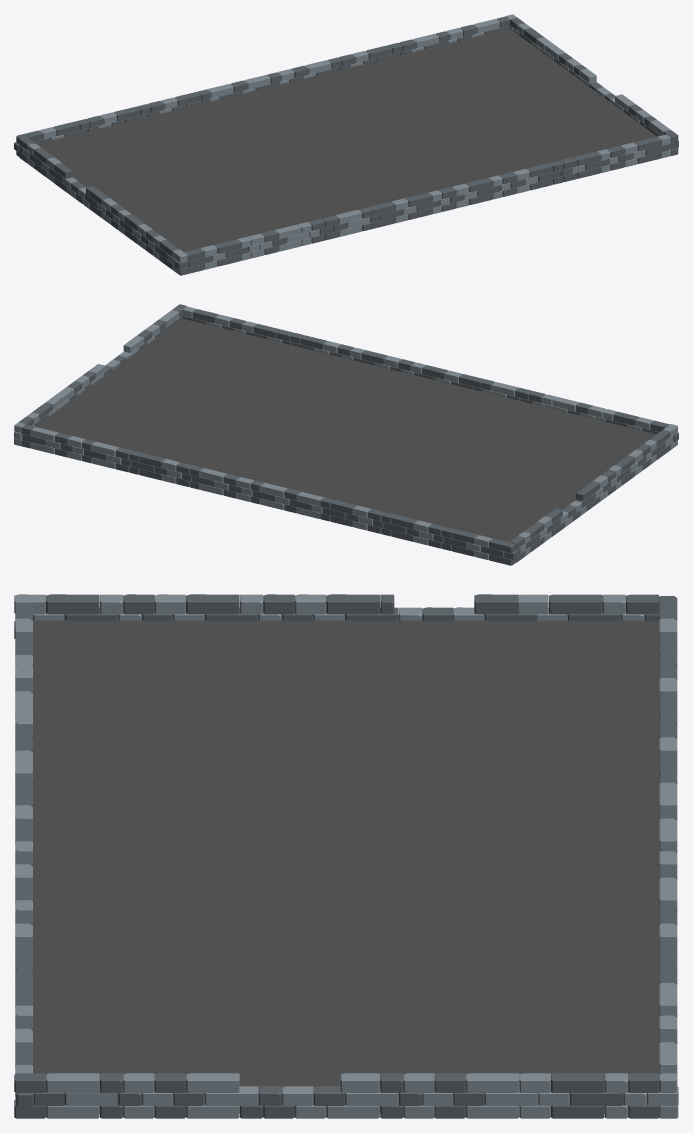
File: baseGround3.fbx
The picture shows the model from 3 angles, top to bottom: view 1: azimuth 30°, elevation 25°; view 2: azimuth 150°, elevation 25°; view 3: azimuth 270°, elevation 25°; orthographic projection. The views are drawn at different scales.
Parts seen in each view (by area): view 1: pasted__polySurface2035, polySurface863, polySurface898, polySurface1106, polySurface1088; view 2: pasted__polySurface2035, polySurface898, polySurface863, polySurface1106, polySurface1088; view 3: pasted__polySurface2035, polySurface1088, polySurface1106, polySurface898, polySurface863.
Part boxes in pixels (x1,y1,x2,y2): pasted__polySurface2035: (37, 28, 657, 251); polySurface863: (175, 134, 670, 273); polySurface898: (14, 16, 509, 156); polySurface1106: (15, 137, 187, 275); polySurface1088: (506, 14, 678, 155); pasted__polySurface2035: (35, 319, 656, 542); polySurface898: (21, 424, 517, 565); polySurface863: (183, 306, 678, 441); polySurface1106: (509, 424, 677, 562); polySurface1088: (14, 304, 187, 446); pasted__polySurface2035: (33, 615, 659, 1113); polySurface1088: (14, 1073, 678, 1118); polySurface1106: (14, 594, 659, 638); polySurface898: (659, 596, 677, 1085); polySurface863: (15, 602, 32, 1099).
Bounding box in the file's own units: 2677 × 98.67 × 1537.
